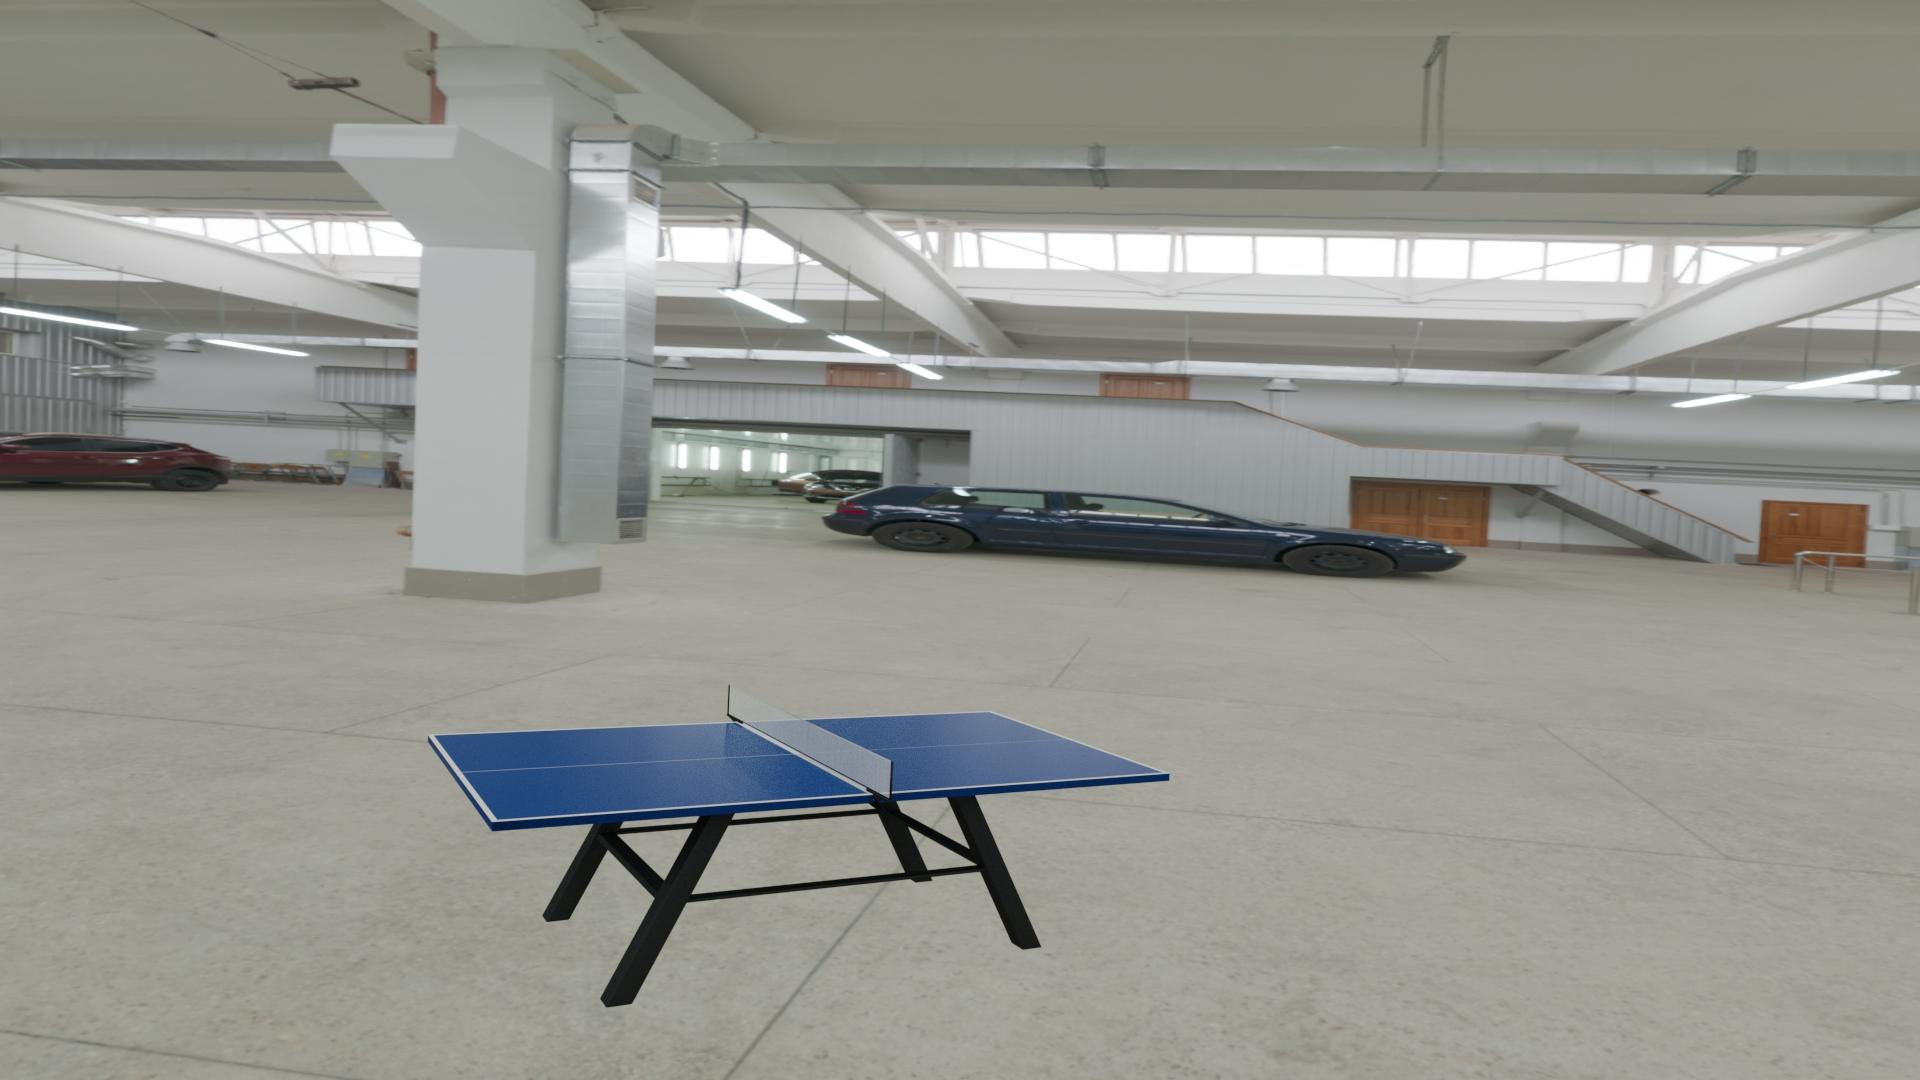table: (434, 712, 1163, 820)
